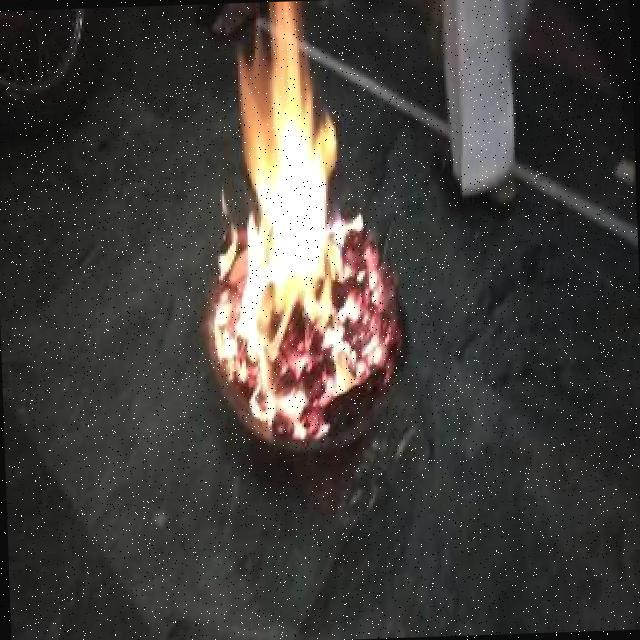Fire: (195, 0, 397, 462)
